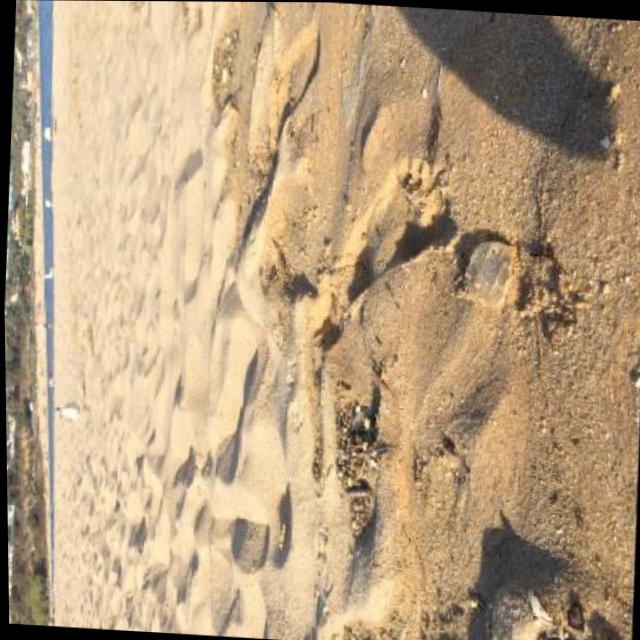plastic: (466, 239, 519, 310)
